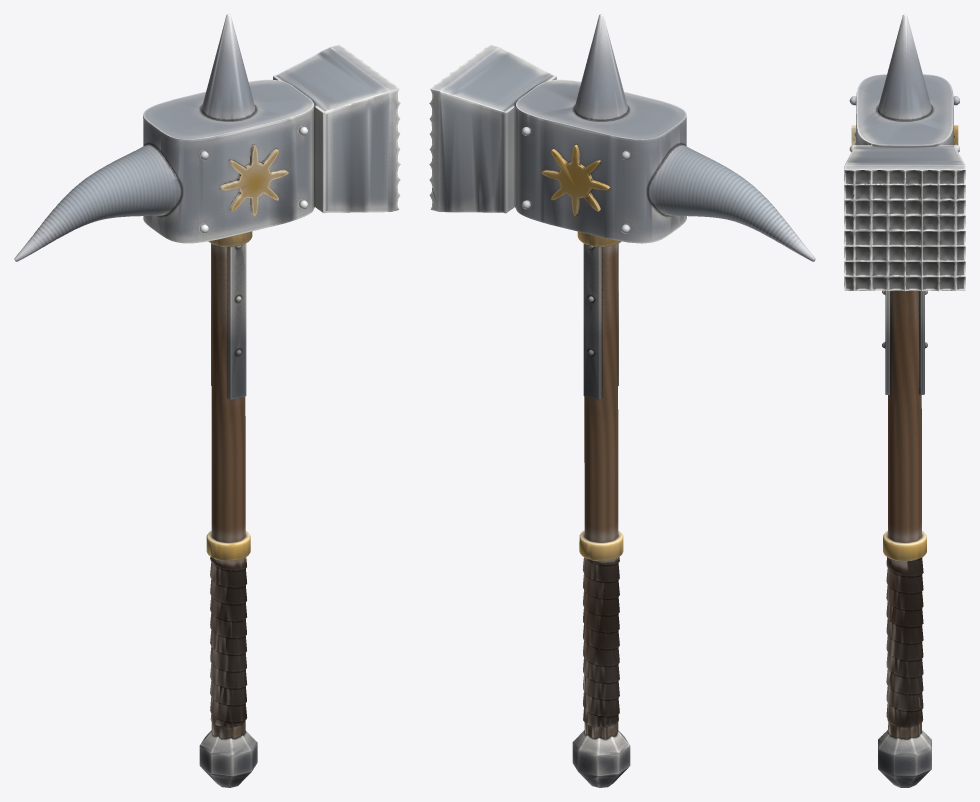
File: weapon_warhammer.gltf
3 renders of one model, left to right at view 1: azimuth 30°, elevation 25°; view 2: azimuth 150°, elevation 25°; view 3: azimuth 270°, elevation 25°, orthographic.
Parts seen in each view (by area): view 1: weapon_warhammer; view 2: weapon_warhammer; view 3: weapon_warhammer.
Boxes of the visible parts, <box> form: weapon_warhammer: <box>14,14,400,787</box>; weapon_warhammer: <box>429,14,815,787</box>; weapon_warhammer: <box>844,14,965,787</box>.
Size of the model in its own units: 0.4883 by 1.01 by 0.144.
Materials: 1 (1 with a texture image).
